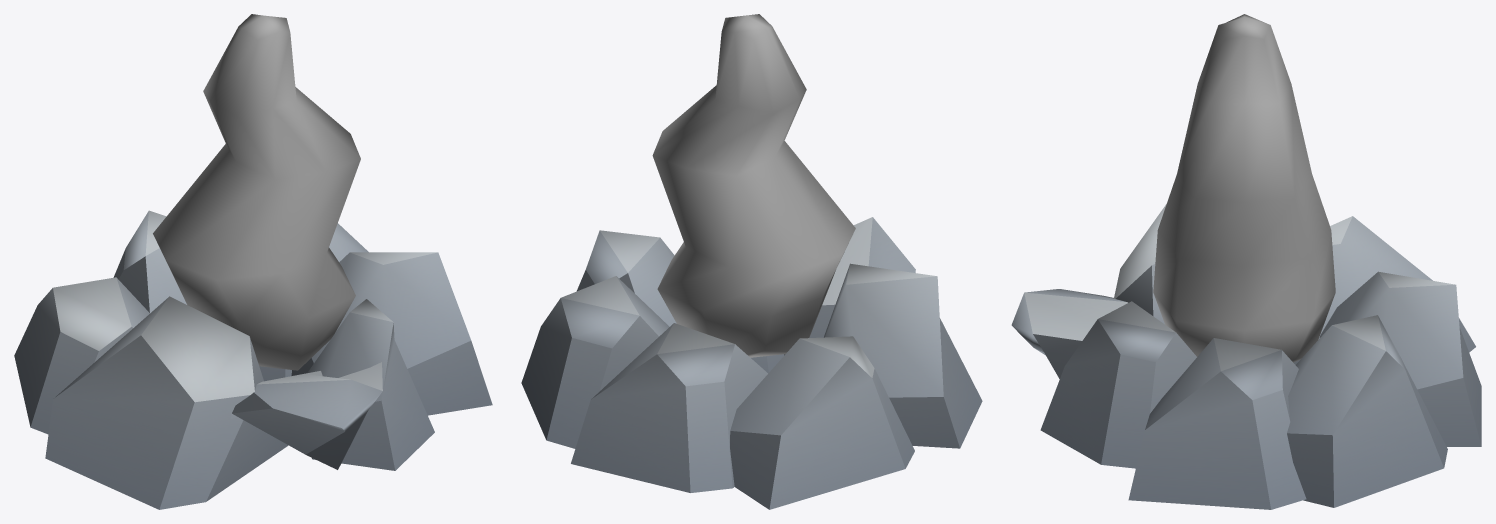
File: Campfire.fbx
3 renders of one model, left to right at view 1: azimuth 30°, elevation 25°; view 2: azimuth 150°, elevation 25°; view 3: azimuth 270°, elevation 25°, orthographic. The views are drawn at different scales.
Visible parts, largest first — view 1: pCube118; view 2: pCube118; view 3: pCube118.
Boxes of the visible parts, x1,y1,x2,y2 form: pCube118: [14, 14, 492, 509]; pCube118: [521, 14, 982, 509]; pCube118: [1011, 14, 1481, 509].
Bounding box in the file's own units: 1.48 × 1.42 × 1.44.
Materials: 2 (1 with a texture image).
